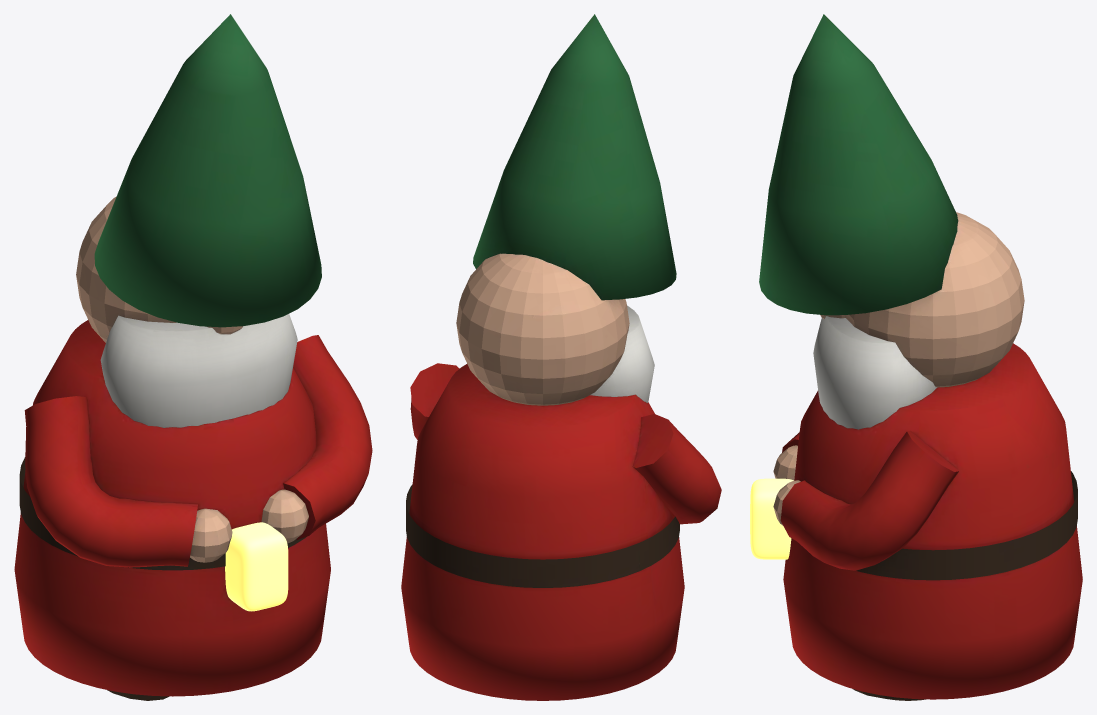
File: green-lantern.glb
The picture shows the model from 3 angles, left to right: view 1: azimuth 30°, elevation 25°; view 2: azimuth 150°, elevation 25°; view 3: azimuth 270°, elevation 25°; orthographic projection. The views are drawn at different scales.
Parts seen in each view (by area): view 1: gnome_coat, gnome_hat, gnome_beard, gnome_skin, lantern_glow, gnome_boots; view 2: gnome_coat, gnome_hat, gnome_skin, gnome_boots, gnome_beard; view 3: gnome_coat, gnome_hat, gnome_skin, gnome_beard, gnome_boots, lantern_glow.
Part boxes in pixels (<box>): gnome_coat: <box>14,320,372,696</box>; gnome_hat: <box>94,14,321,327</box>; gnome_beard: <box>100,314,297,427</box>; gnome_skin: <box>76,196,308,562</box>; lantern_glow: <box>225,522,288,611</box>; gnome_boots: <box>19,457,306,700</box>; gnome_coat: <box>401,363,721,700</box>; gnome_hat: <box>473,14,676,300</box>; gnome_skin: <box>456,253,629,405</box>; gnome_boots: <box>406,484,679,587</box>; gnome_beard: <box>590,305,654,402</box>; gnome_coat: <box>780,343,1082,699</box>; gnome_hat: <box>759,14,958,315</box>; gnome_skin: <box>773,212,1024,525</box>; gnome_beard: <box>813,316,937,429</box>; gnome_boots: <box>853,471,1077,700</box>; lantern_glow: <box>750,478,793,559</box>.
Bounding box in the file's own units: 0.2154 × 0.4356 × 0.2.
6 materials, 5 textured.
